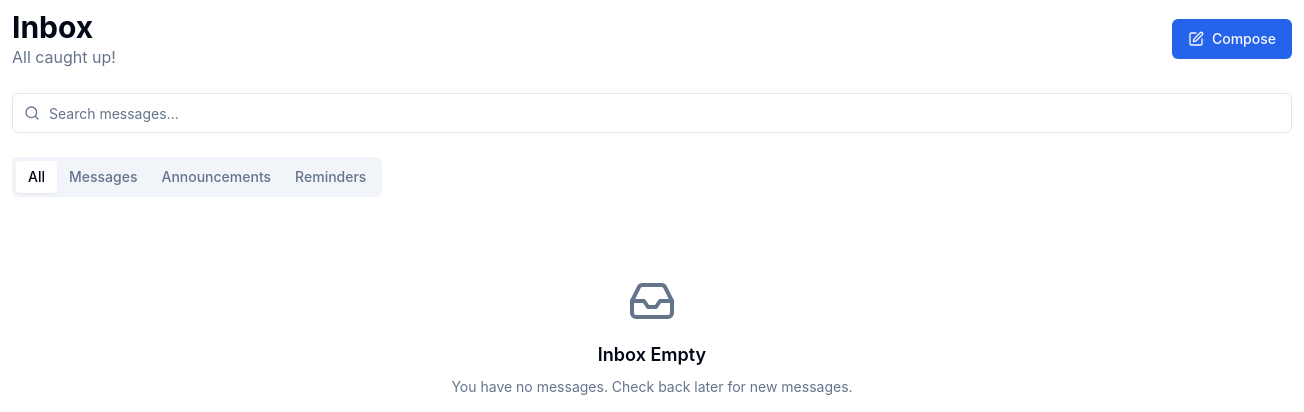
Scenario: InboxPage › shows empty state for specific tab
Click the tab "Announcements" at (216, 177), box left=150, top=161, right=283, bottom=193
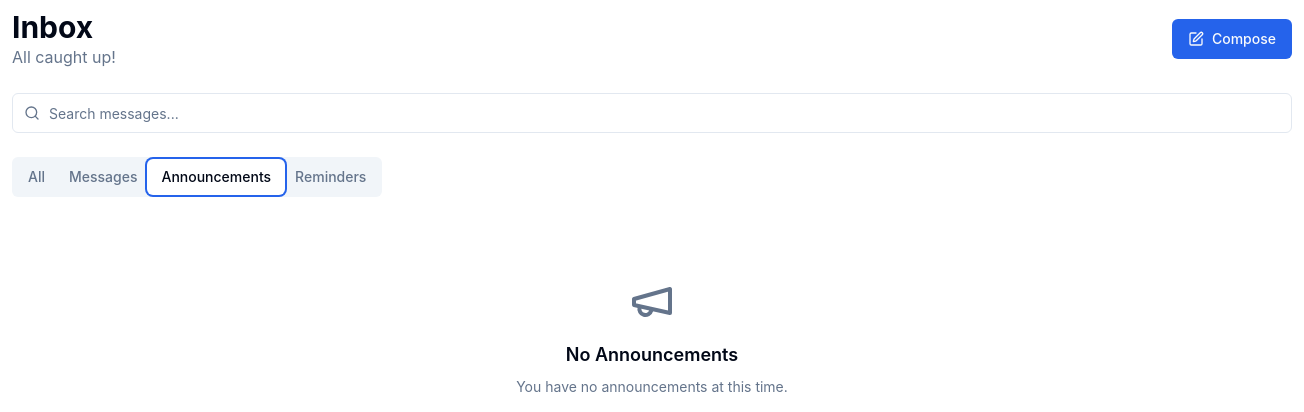
Expected: the heading "No Announcements" is shown, left=566, top=341, right=738, bottom=369
